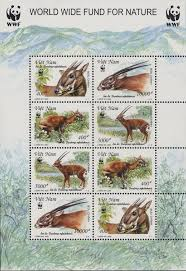sao_la: (102, 106, 151, 143), (98, 61, 153, 93), (37, 61, 88, 95), (38, 110, 84, 140)
